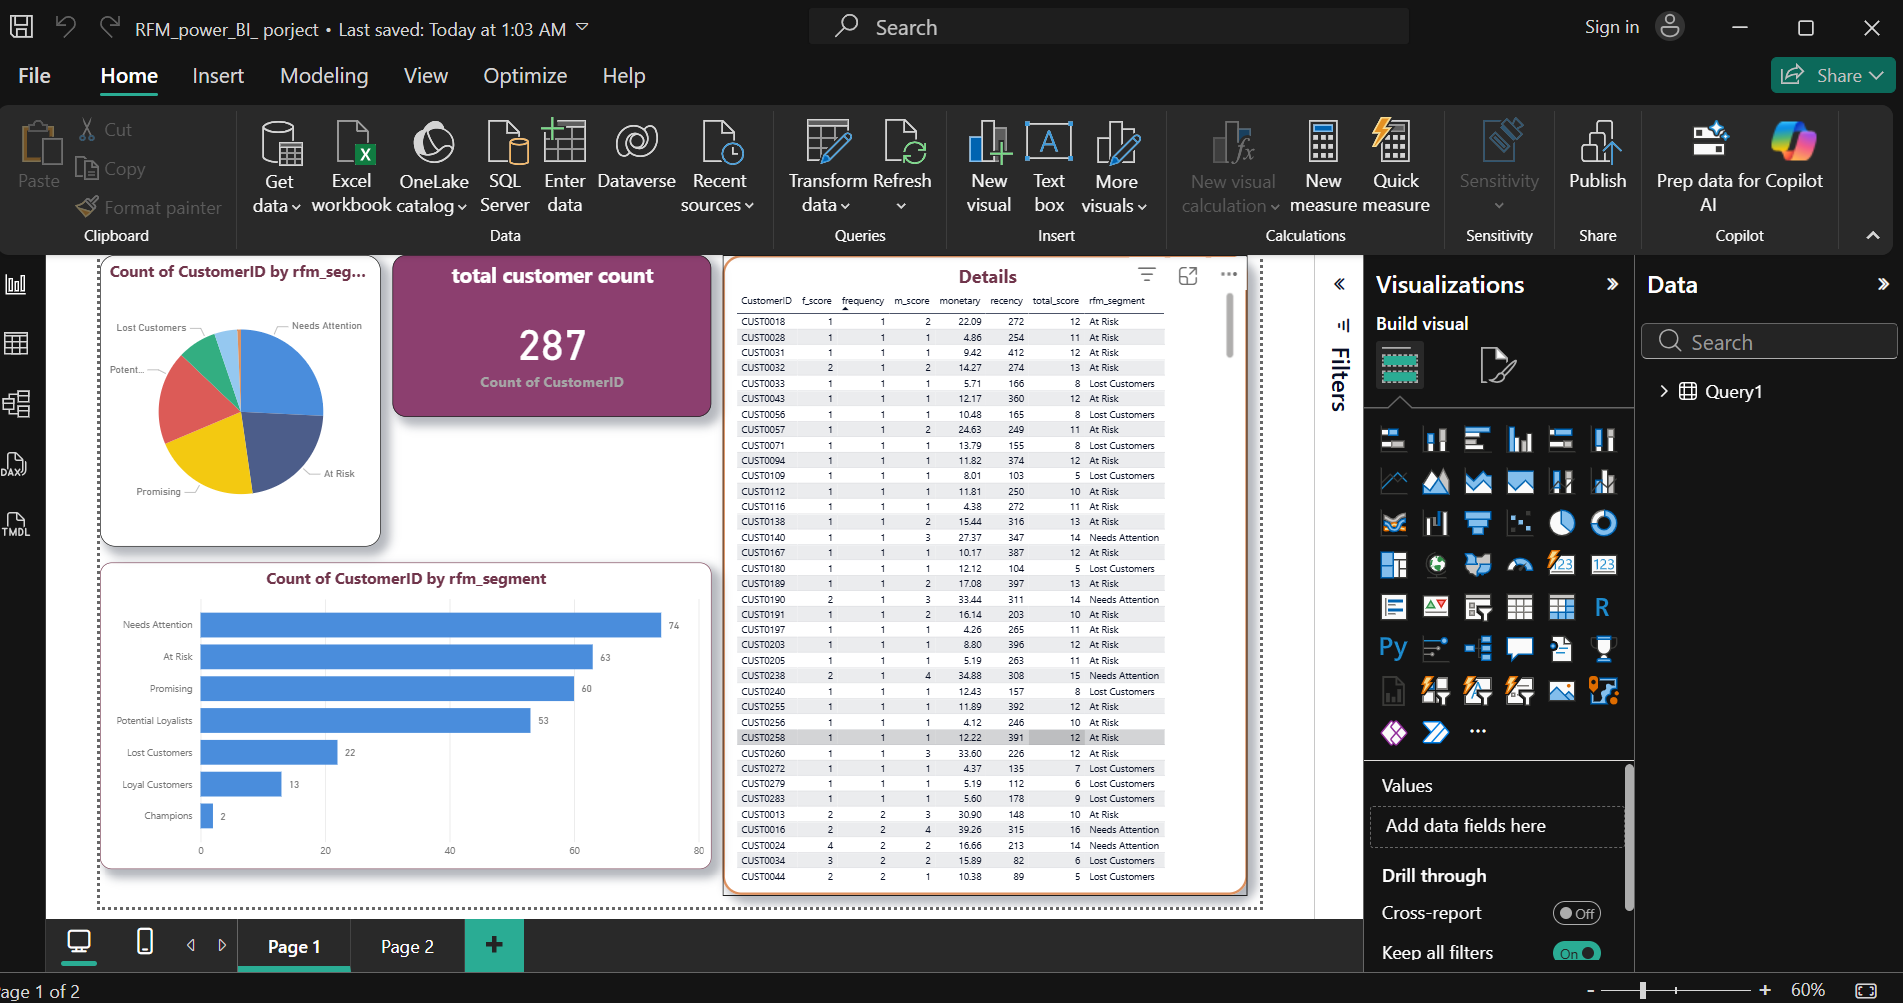

Layout of this report page (visuals, bound fields, positions):
{"tool":"powerbi","page":{"name":"Page 1","canvas":[1280,720],"ordinal":0},"visuals":[{"type":"tableEx","title":"Details","fields":{"Values":["Query1.CustomerID","Query1.f_score","Query1.frequency","Query1.m_score","Query1.monetary","Query1.recency","Query1.total_score","Query1.rfm_segment"]},"box":[686.7,0,580,706.7],"z":0},{"type":"clusteredBarChart","fields":{"Category":["Query1.rfm_segment"],"Y":["CountNonNull(Query1.CustomerID)"]},"box":[0,340,675,338.3],"z":1},{"type":"pieChart","fields":{"Category":["Query1.rfm_segment"],"Y":["CountNonNull(Query1.CustomerID)"]},"box":[0,0,310,321.7],"z":2},{"type":"card","title":"total customer count","fields":{"Values":["Count(Query1.CustomerID)"]},"box":[323.3,0,351.7,178.3],"z":3}]}

Visuals, with their boxes on the page's 1280x720 design canvas (x1, y1, x2, y2). These are canvas units, not pixel positions in the 1903x1003 screenshot, which may show the page scaled, cropped or inside an application window:
"Details" tableEx: bbox(687, 0, 1267, 707)
clusteredBarChart - Query1.rfm_segment x CountNonNull(Query1.CustomerID): bbox(0, 340, 675, 678)
pieChart - Query1.rfm_segment x CountNonNull(Query1.CustomerID): bbox(0, 0, 310, 322)
"total customer count" card: bbox(323, 0, 675, 178)
